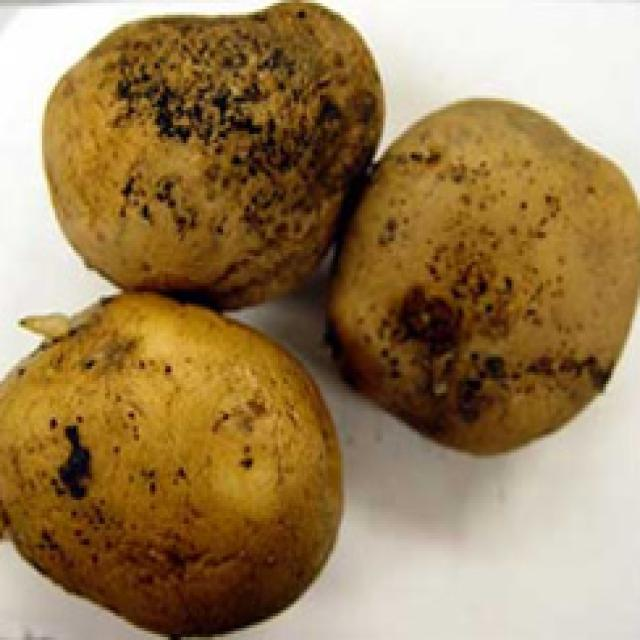black_scurf: (0, 262, 359, 640), (316, 81, 640, 478), (40, 0, 388, 330)
